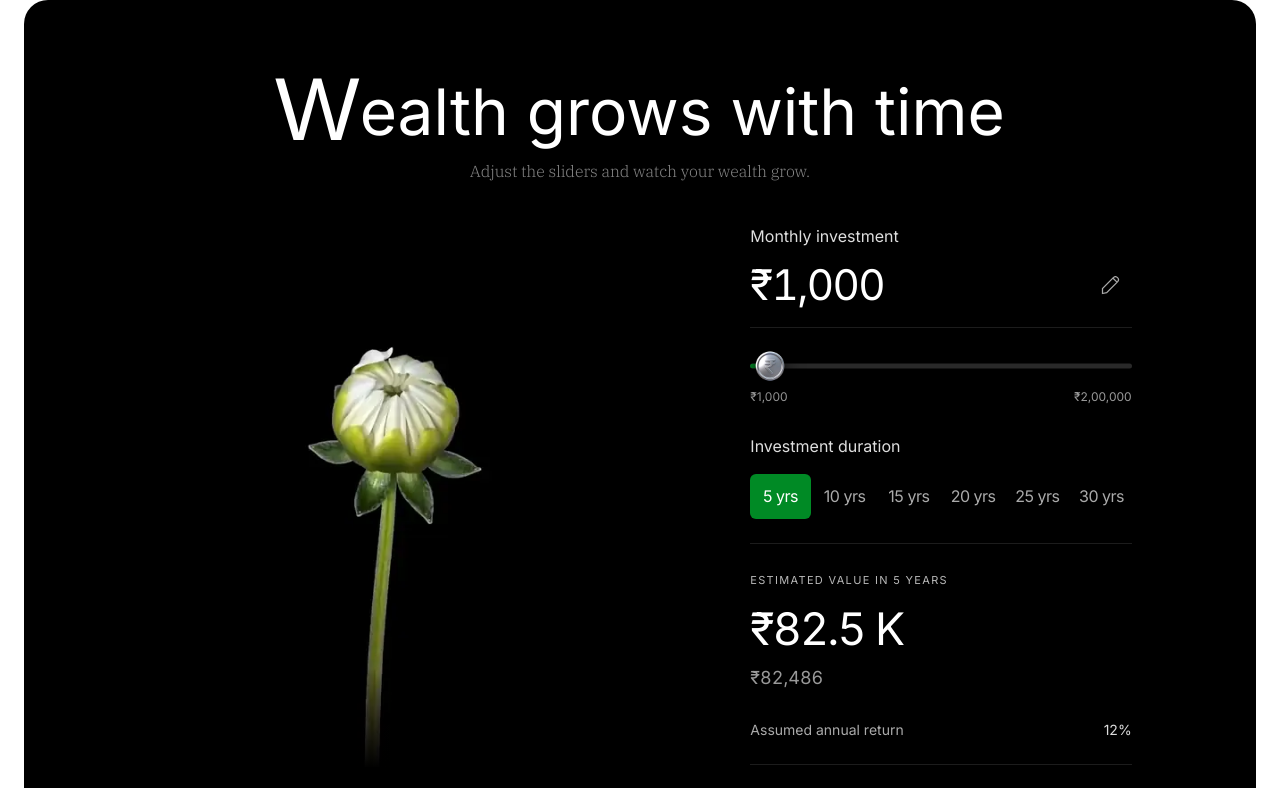
BloomSection amount editing › commits -5 safely
Replace the text in the field labelled "Monthly investment" with "-5" at (915, 286), box [750,260,1080,311]
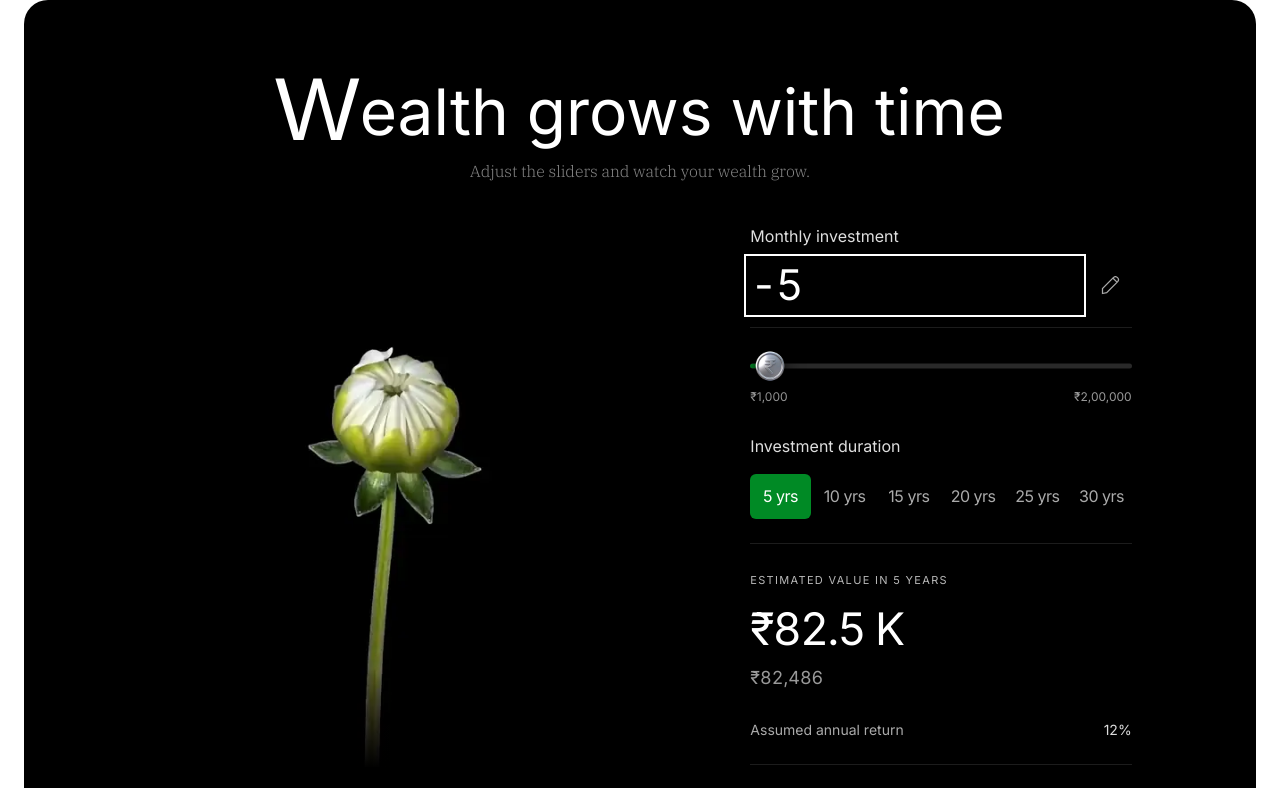
Leave the field labelled "Monthly investment", box [750,260,1080,311]
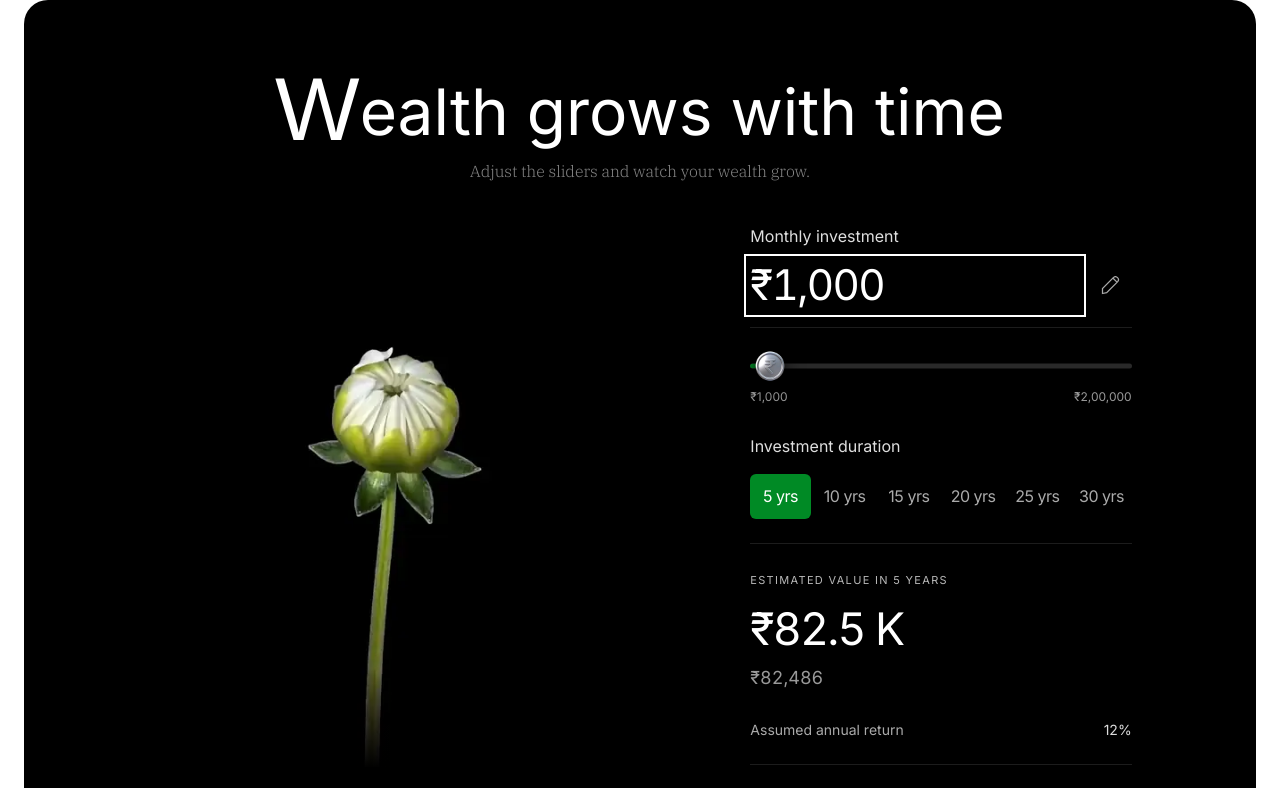
Expected: the element showing "Monthly investment ₹1,000 ₹2,00,000" holds "1000", [750,224,1132,406]
Expected: the field labelled "Monthly investment" holds "₹1,000", [750,260,1080,311]
